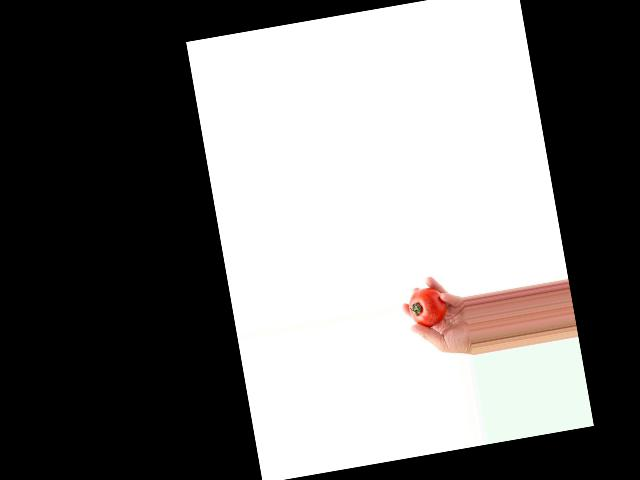tomato: (406, 284, 449, 329)
